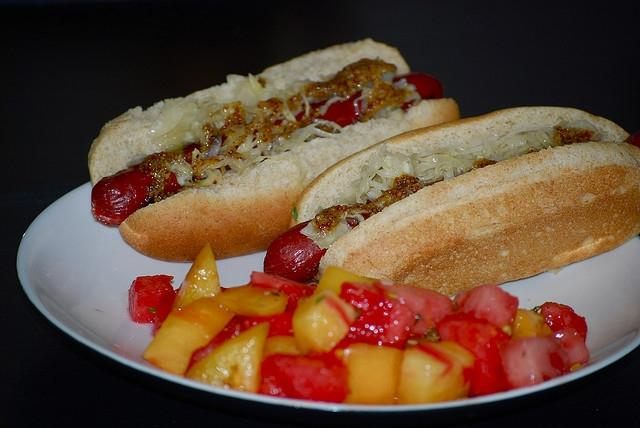tomato: (435, 316, 511, 396), (257, 350, 353, 403), (371, 280, 453, 336), (499, 336, 571, 391), (185, 316, 247, 377), (347, 298, 417, 352), (454, 284, 518, 338), (249, 272, 317, 312), (128, 274, 174, 323), (540, 302, 588, 342), (544, 327, 590, 366), (240, 310, 296, 338), (338, 282, 389, 310)
